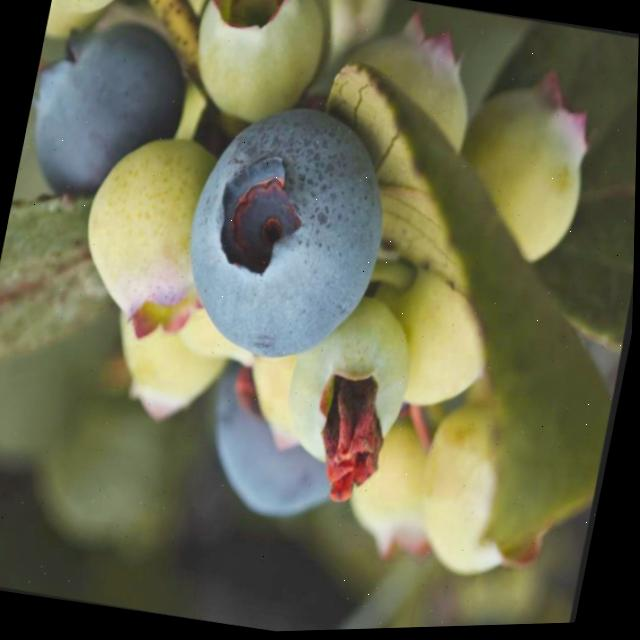RipeBlueBerry: (162, 83, 414, 383)
